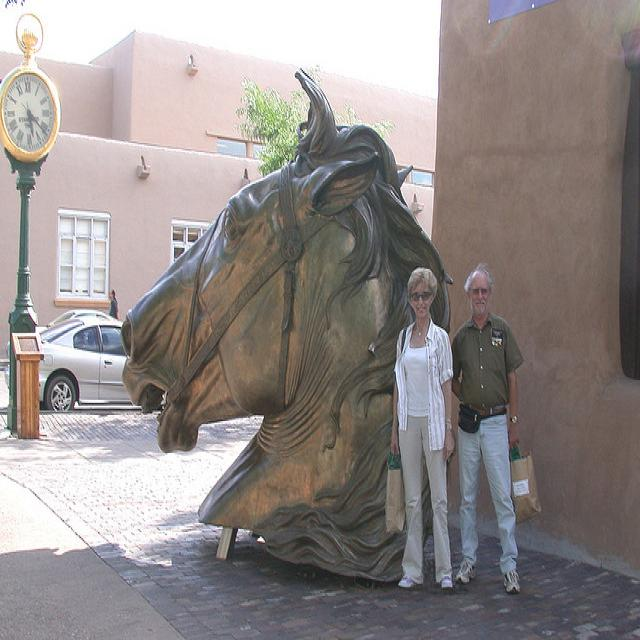Vehicle: (38, 316, 137, 410), (35, 308, 112, 333)
